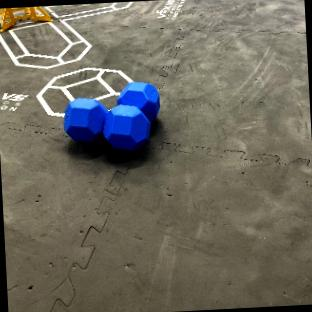V5_BLUE: (62, 81, 159, 154)
